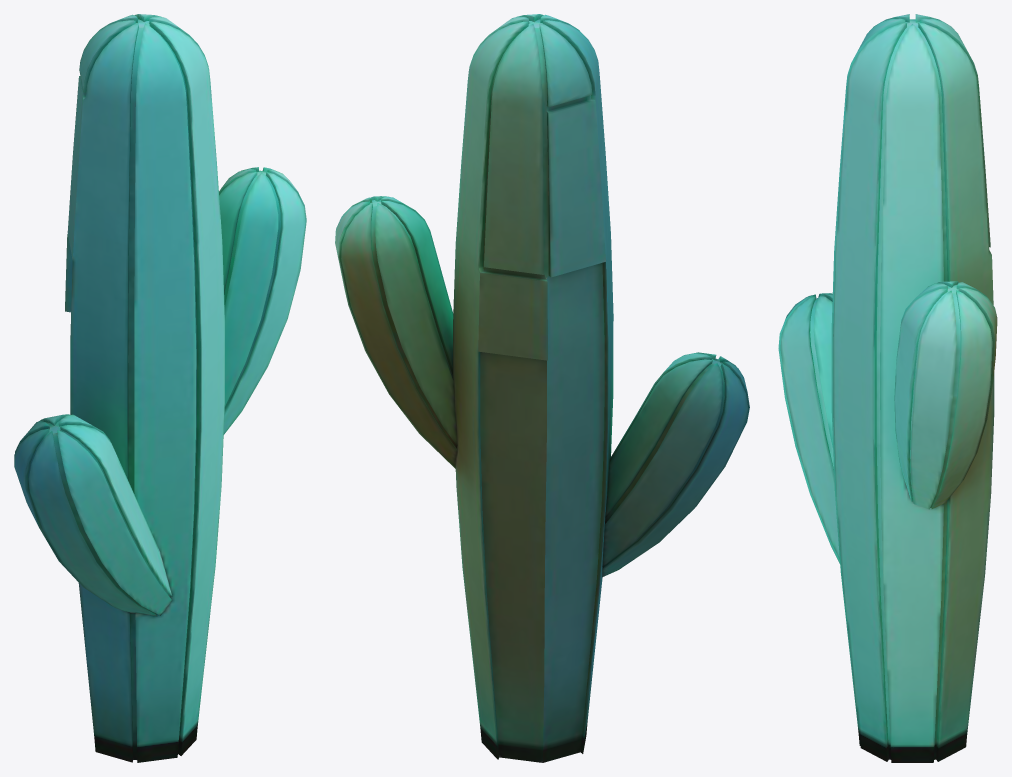
The model's file is cactus.glb.
3 renders of one model, left to right at view 1: azimuth 30°, elevation 25°; view 2: azimuth 150°, elevation 25°; view 3: azimuth 270°, elevation 25°, orthographic.
Parts seen in each view (by area): view 1: Cactus; view 2: Cactus; view 3: Cactus.
Part boxes in pixels (x1,y1,x2,y2): Cactus: [14, 14, 306, 762]; Cactus: [335, 14, 749, 762]; Cactus: [778, 14, 997, 762].
Size of the model in its own units: 0.4167 by 0.8405 by 0.2312.
1 material, 1 textured.
